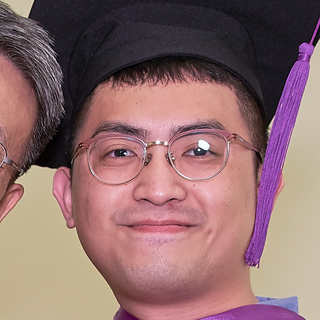eye: (177, 139, 220, 164), (96, 143, 142, 165)
